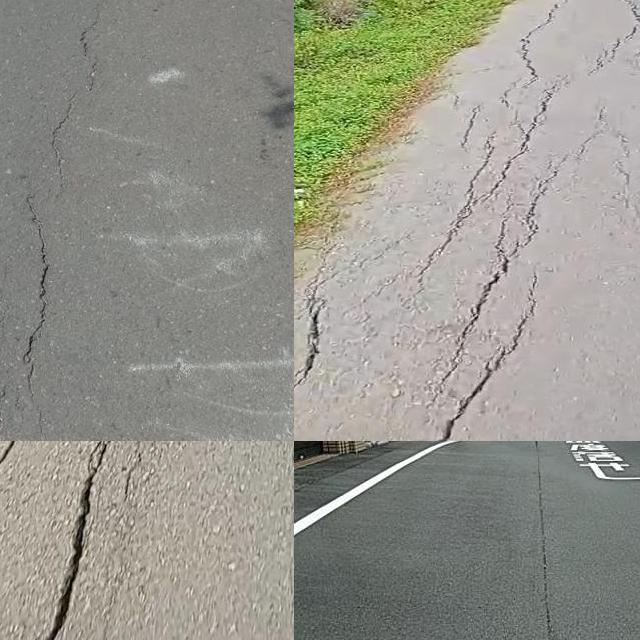Memanjang: (0, 0, 111, 441), (436, 138, 598, 382), (411, 270, 549, 441), (25, 441, 127, 640), (520, 441, 568, 640), (294, 296, 338, 419)
